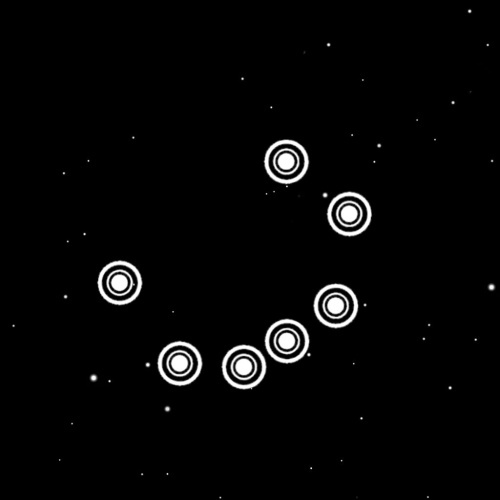corona_borealis: (92, 127, 374, 400)
